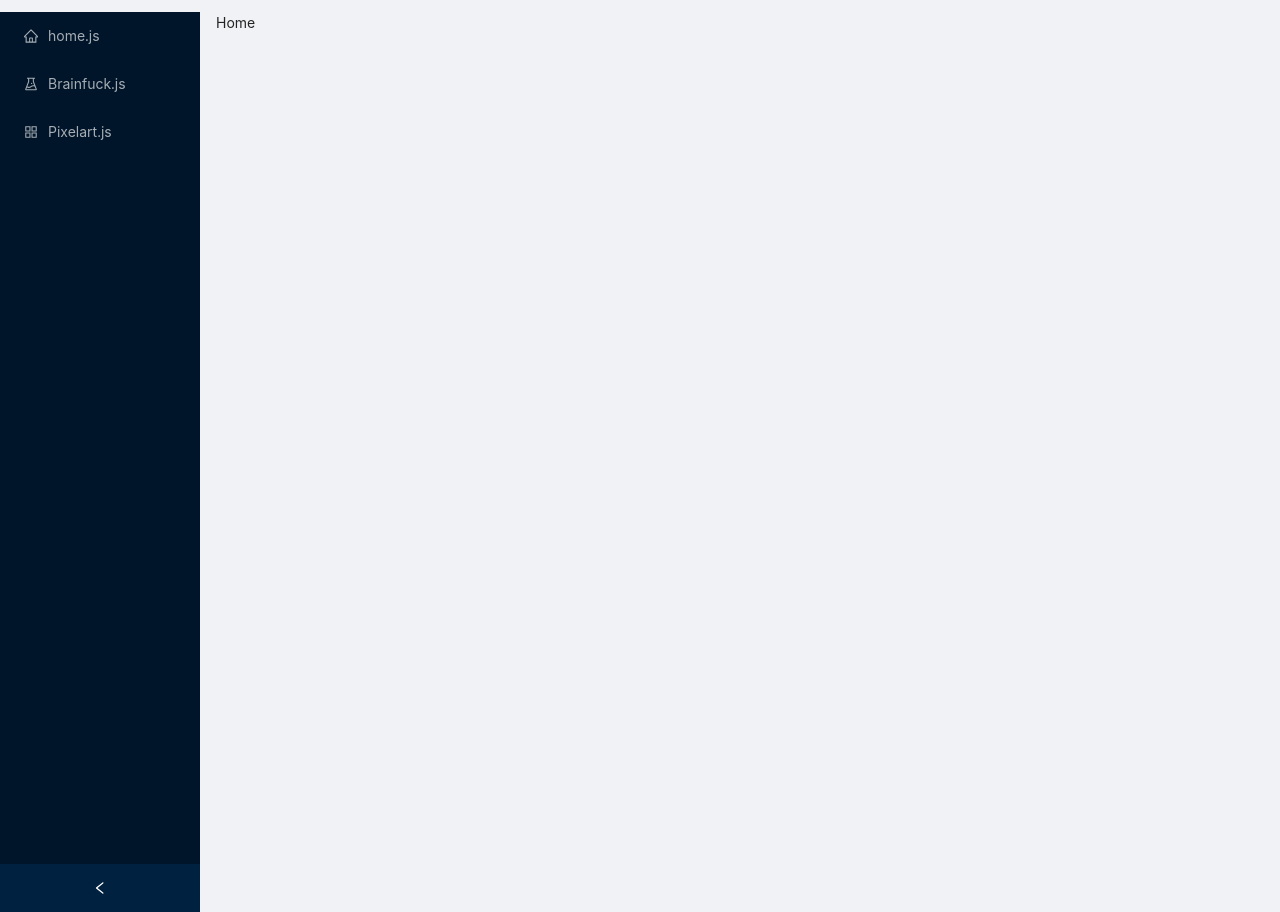
it: changes to pixelart page
This screenshot has width=1280, height=912.
Expected: the text "Home" is shown, [216,14,255,31]
Click the menu item "Pixelart.js" at (68, 132), box [24,123,112,140]
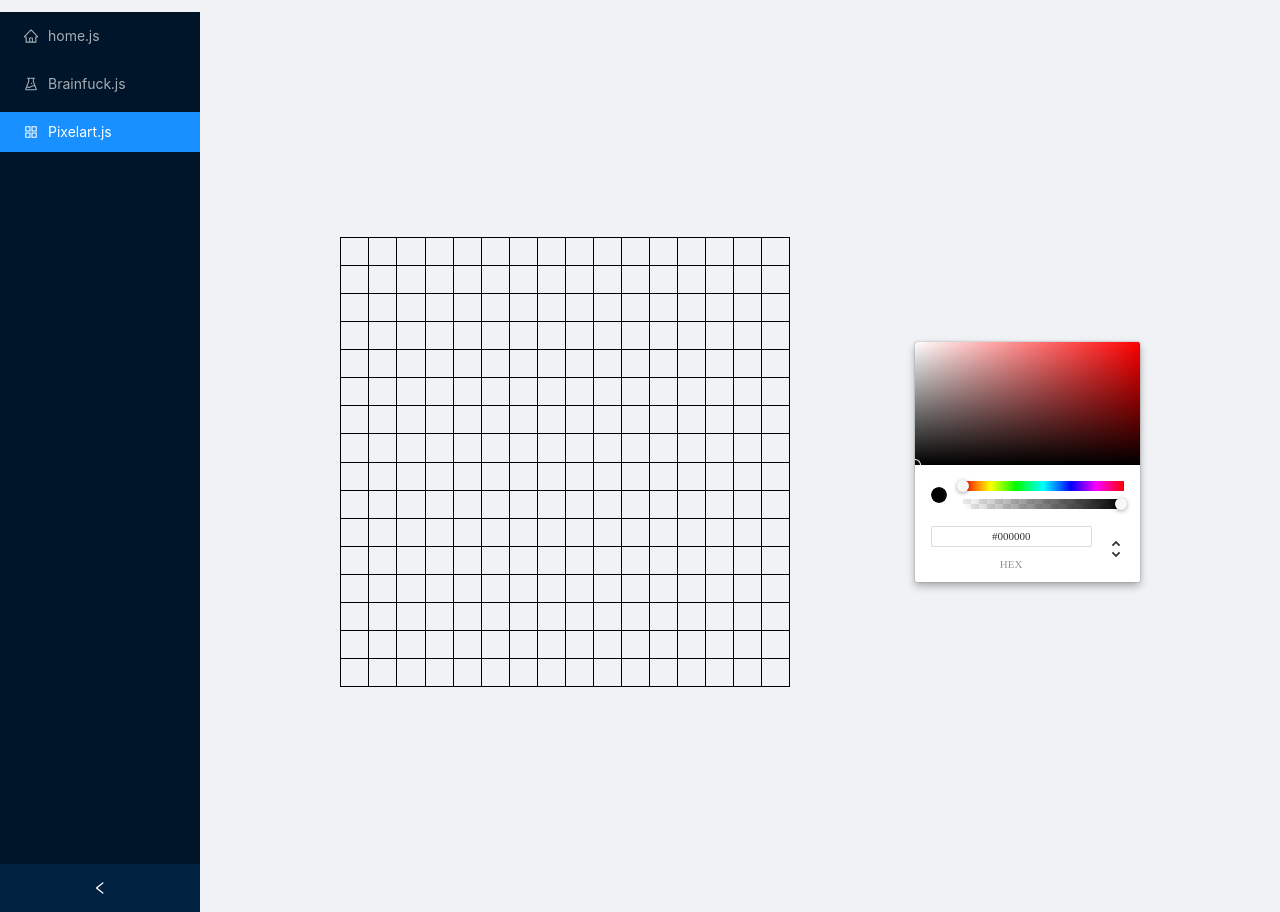
Expected: the element with test id "pixelart-page" is shown, [340,237,1140,687]
